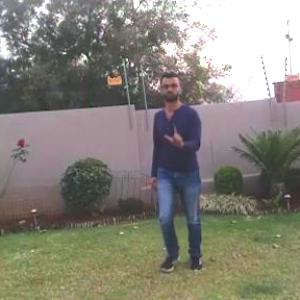land_hand: (162, 120, 186, 149)
